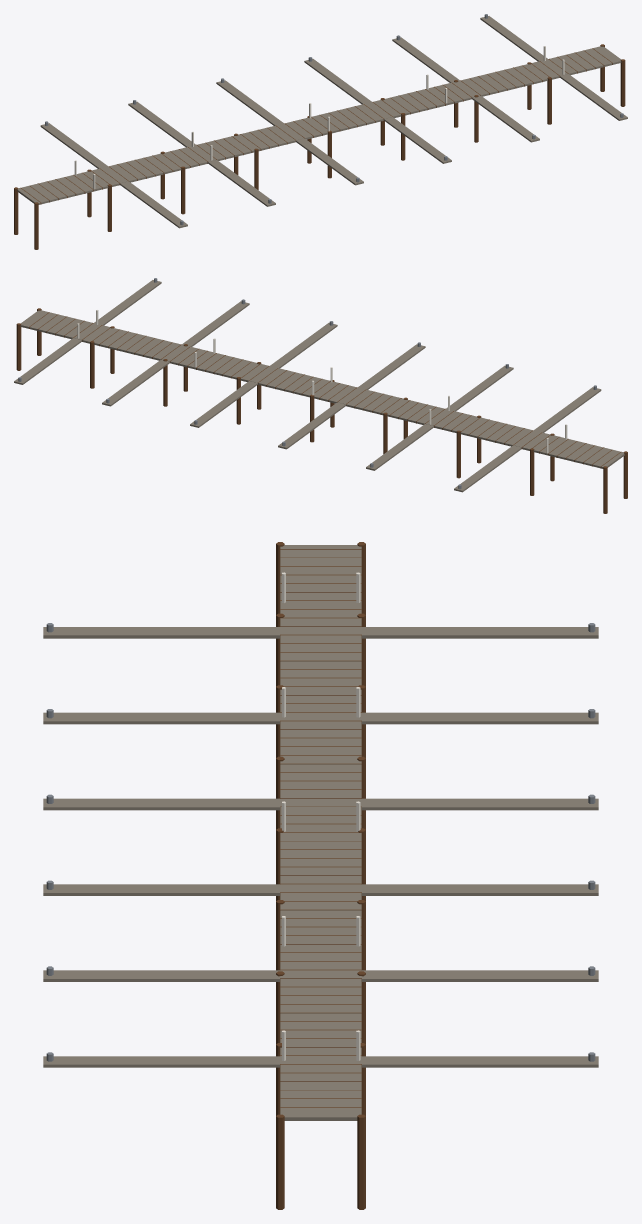
Rendered from gastbrygga.glb.
3 renders of one model, top to bottom at view 1: azimuth 30°, elevation 25°; view 2: azimuth 150°, elevation 25°; view 3: azimuth 270°, elevation 25°, orthographic. The views are drawn at different scales.
Visible parts, largest first — view 1: gastbrygga; view 2: gastbrygga; view 3: gastbrygga.
Boxes of the visible parts, <box> form: gastbrygga: <box>14,14,627,249</box>; gastbrygga: <box>14,278,627,513</box>; gastbrygga: <box>43,542,598,1209</box>.
Bounding box in the file's own units: 40.23 × 3.9 × 16.4.
